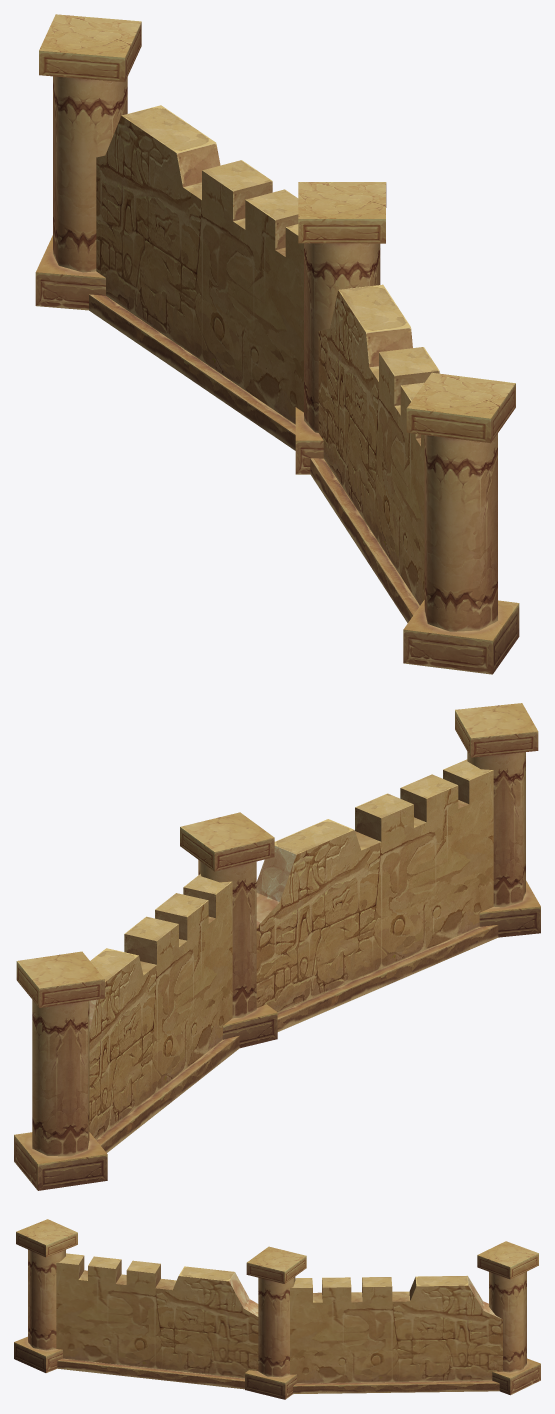
The model's file is Area_06_33.fbx.
3 views of the same model, one above another, from view 1: azimuth 30°, elevation 25°; view 2: azimuth 150°, elevation 25°; view 3: azimuth 270°, elevation 25° (orthographic). The views are drawn at different scales.
Visible parts, largest first — view 1: Area_06_33; view 2: Area_06_33; view 3: Area_06_33.
Boxes of the visible parts, x1,y1,x2,y2 form: Area_06_33: (35, 14, 519, 674); Area_06_33: (14, 703, 540, 1190); Area_06_33: (14, 1219, 540, 1399).
Bounding box in the file's own units: 375 × 409 × 1537.
